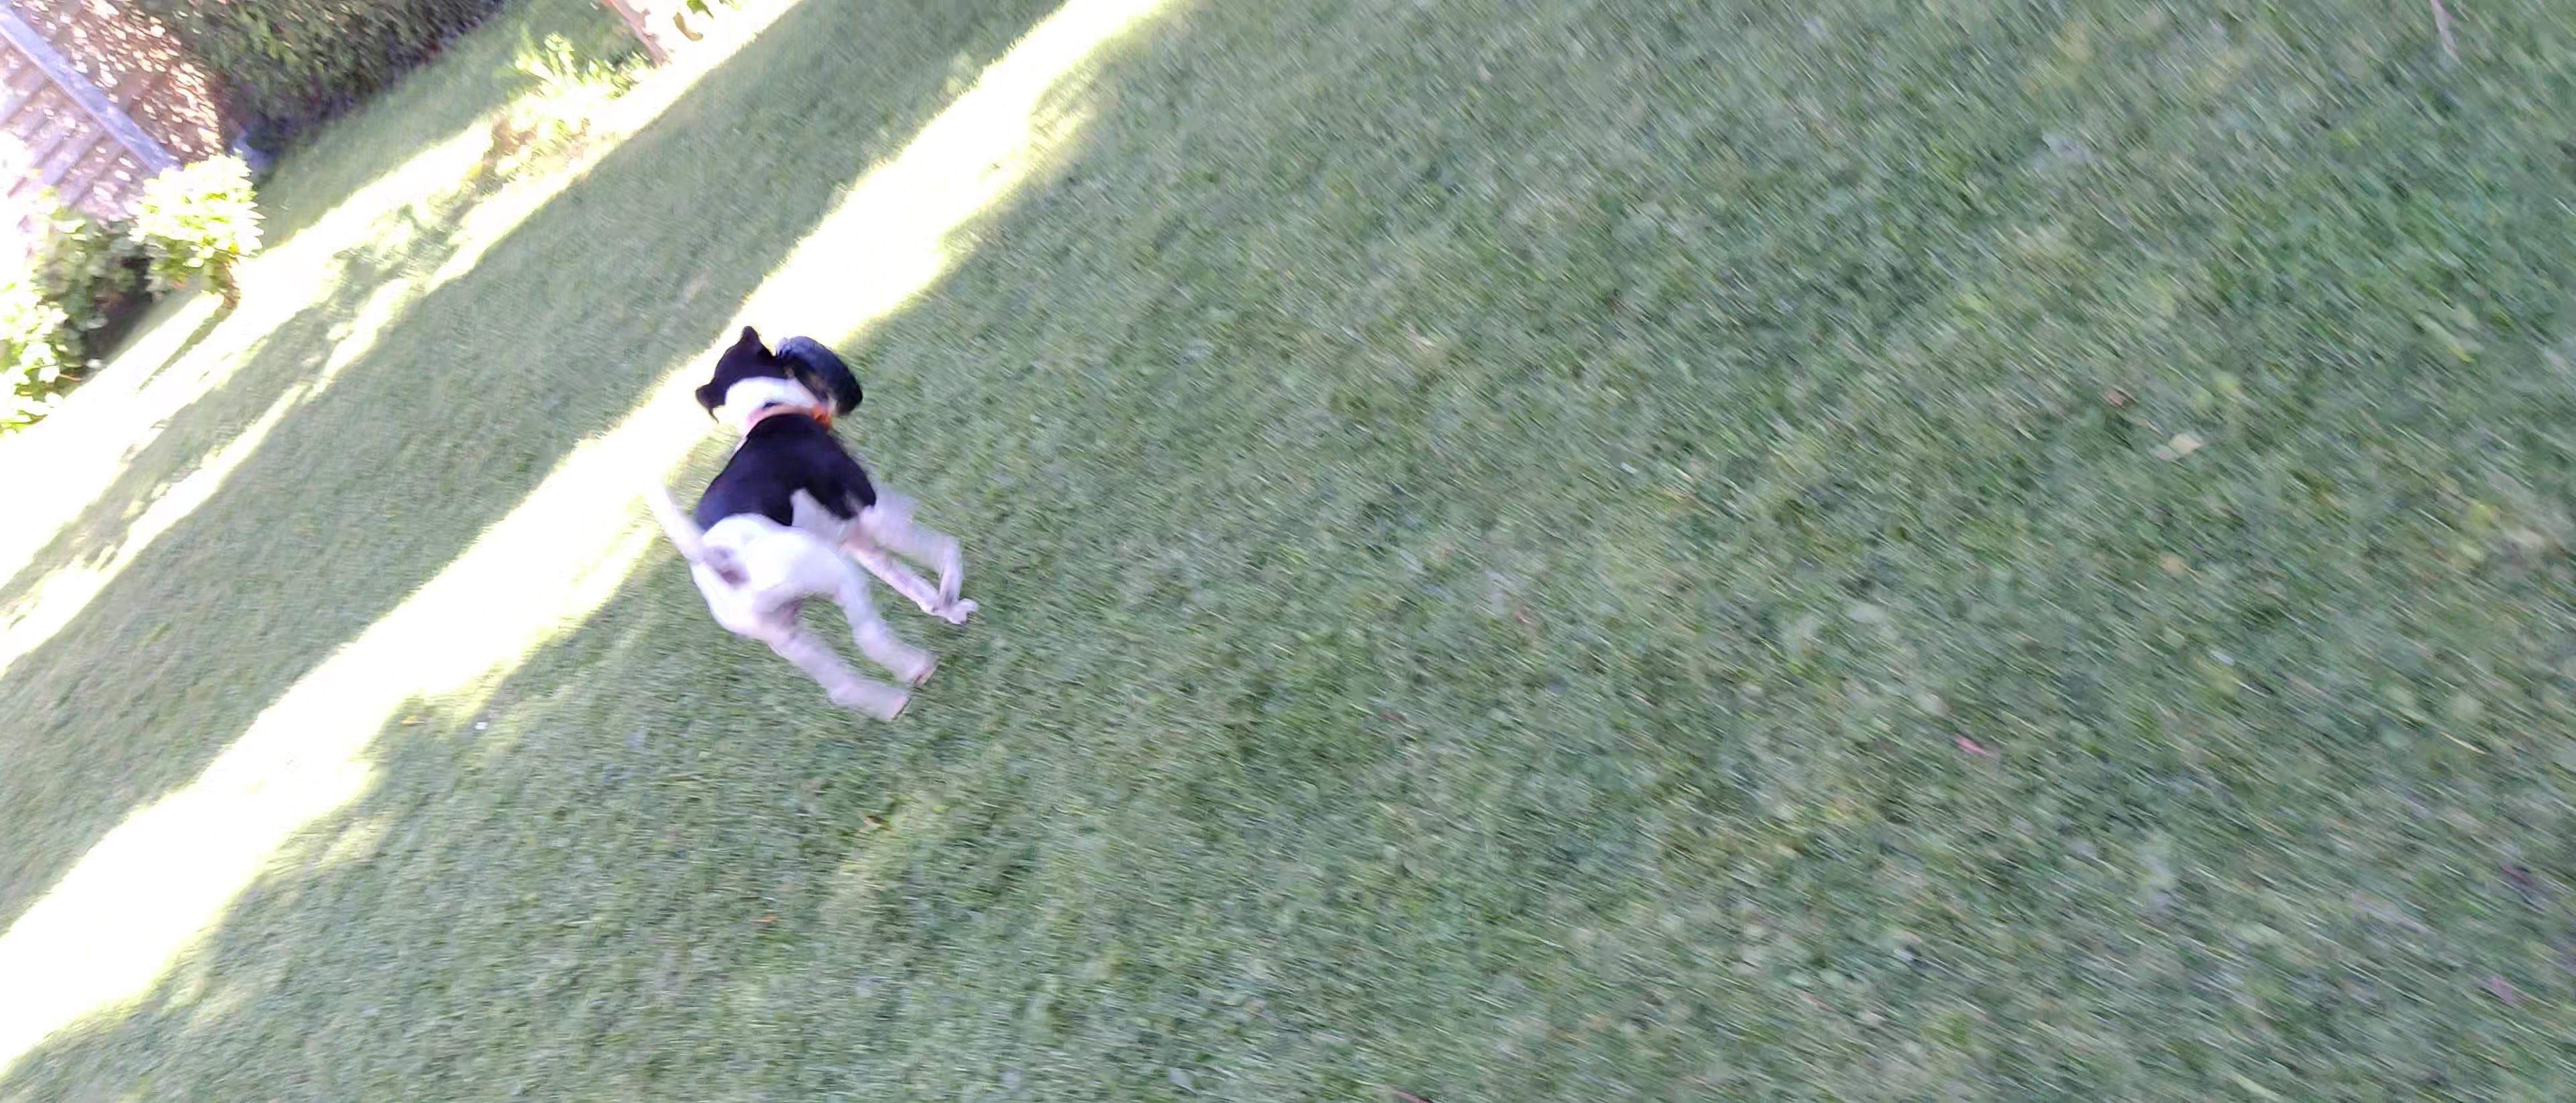Dog: (636, 321, 976, 725)
